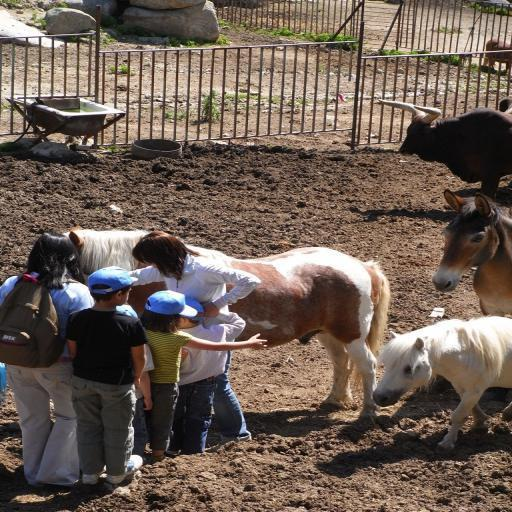horse: (22, 224, 392, 427), (374, 315, 512, 451), (430, 186, 512, 317)
